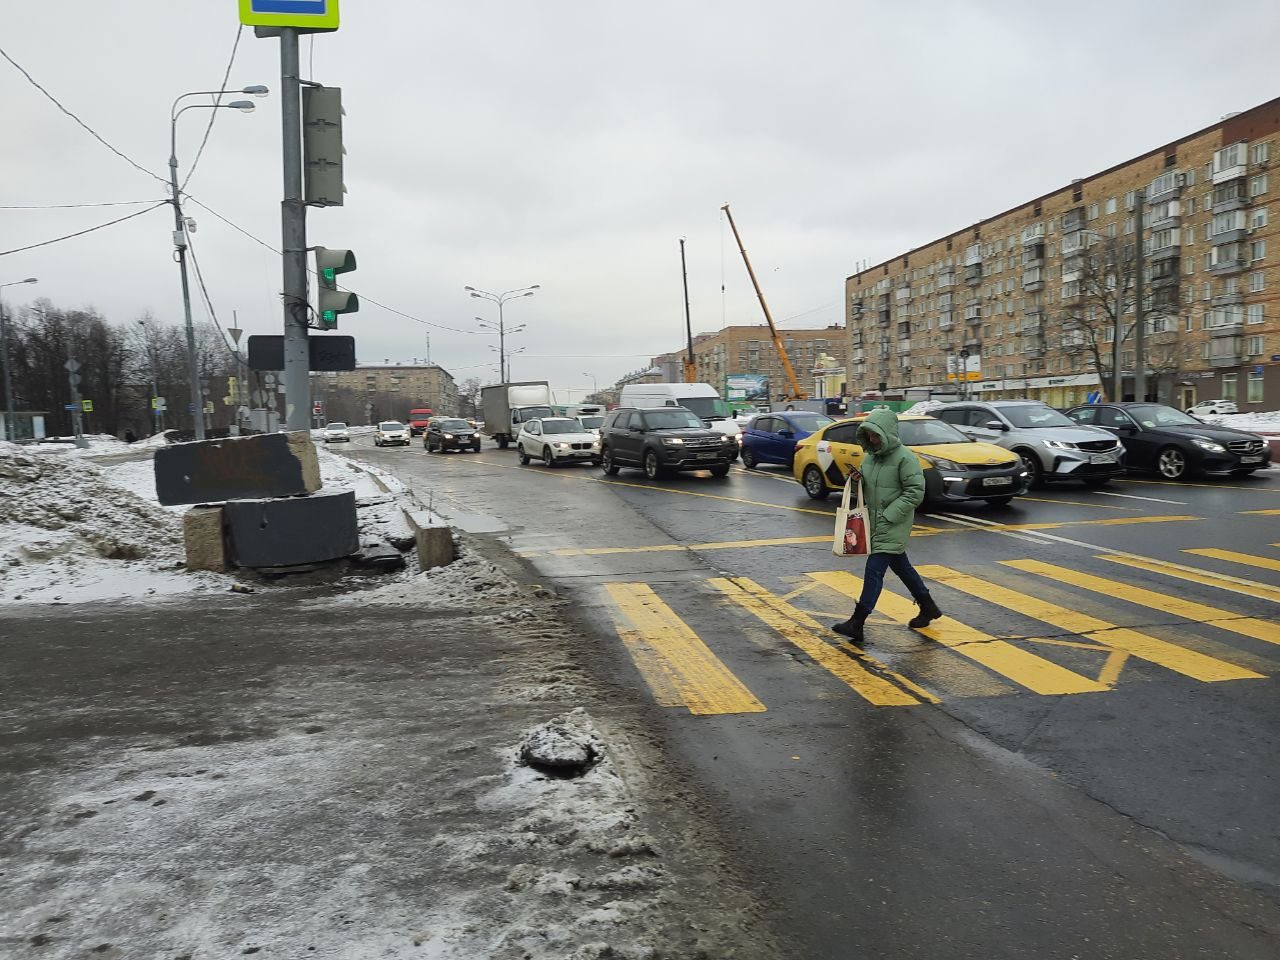sombie: (829, 393, 959, 674)
